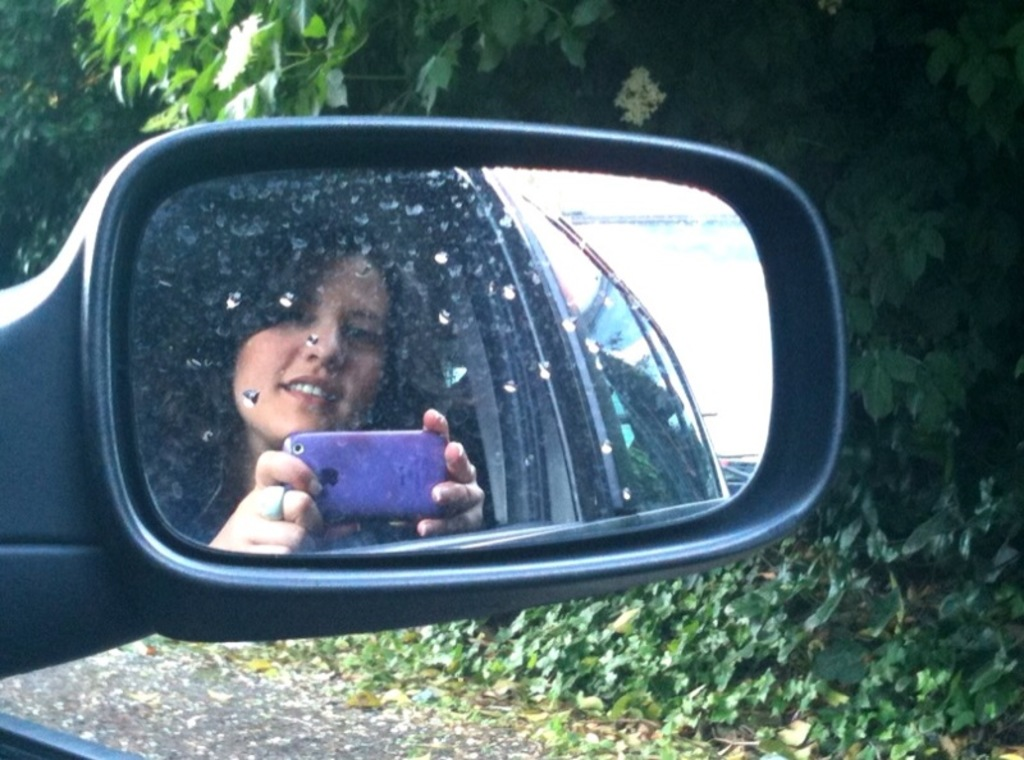Human_hand: (206, 447, 365, 551), (428, 426, 490, 532)
